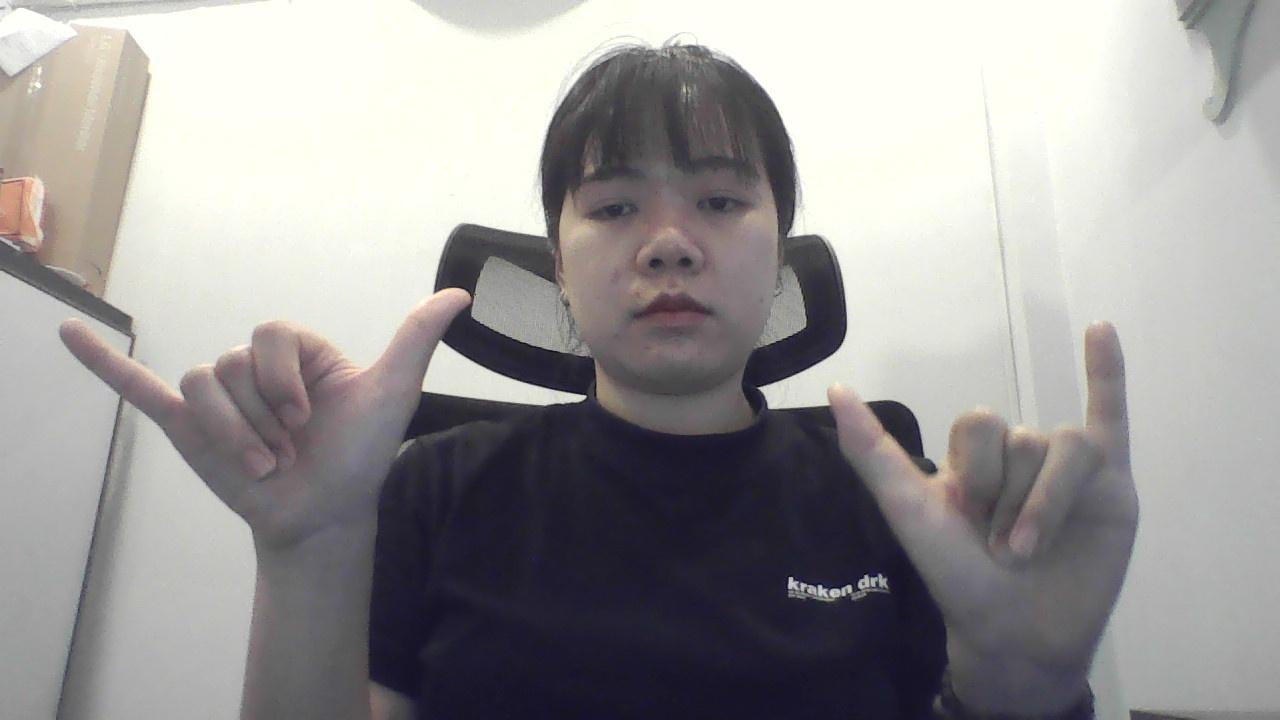Y: (817, 295, 1184, 669), (42, 279, 494, 572)
